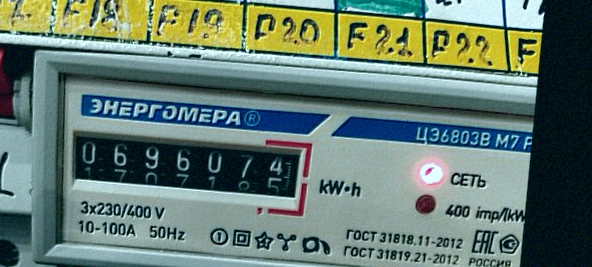0: (78, 139, 100, 165), (205, 148, 224, 175)
4: (267, 153, 285, 176)
5: (265, 176, 283, 197)
6: (173, 145, 194, 173), (110, 141, 131, 167)
7: (237, 152, 255, 179)
9: (142, 143, 161, 170)
screen: (57, 117, 317, 221)
